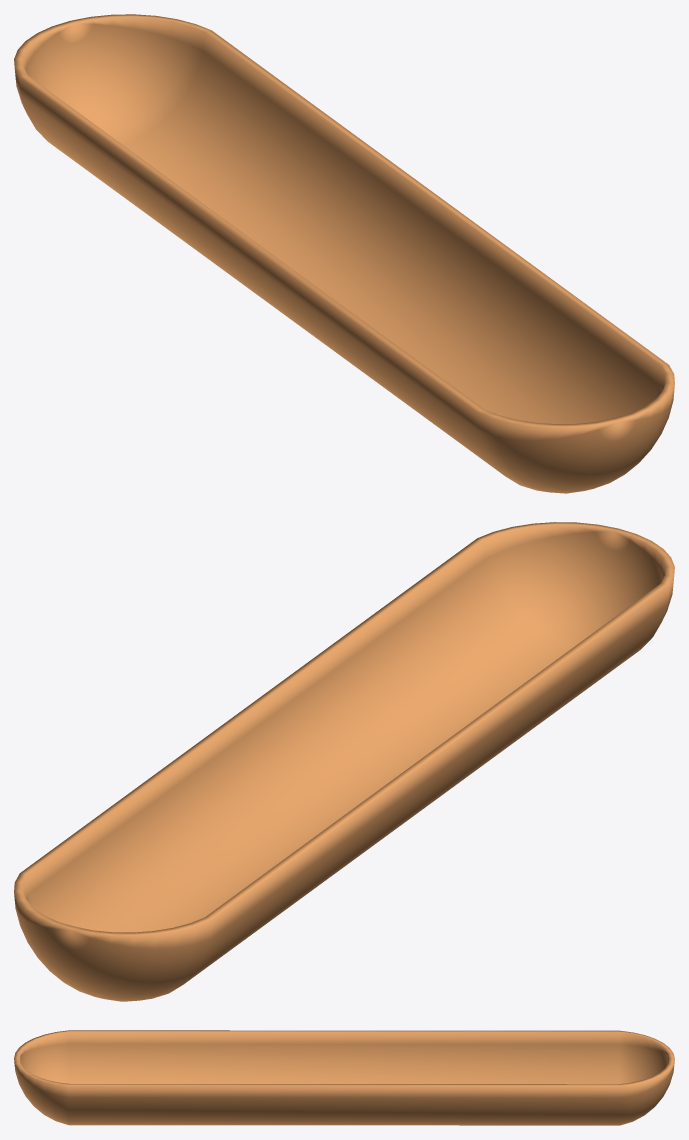
File: WAY STR2.fbx
3 views of the same model, one above another, from view 1: azimuth 30°, elevation 25°; view 2: azimuth 150°, elevation 25°; view 3: azimuth 270°, elevation 25° (orthographic). The views are drawn at different scales.
Visible parts, largest first — view 1: Sphere.006; view 2: Sphere.006; view 3: Sphere.006.
Boxes of the visible parts, x1,y1,x2,y2 form: Sphere.006: [14, 14, 674, 493]; Sphere.006: [14, 522, 674, 1001]; Sphere.006: [14, 1030, 674, 1125].
Size of the model in its own units: 946 by 479 by 4670.
